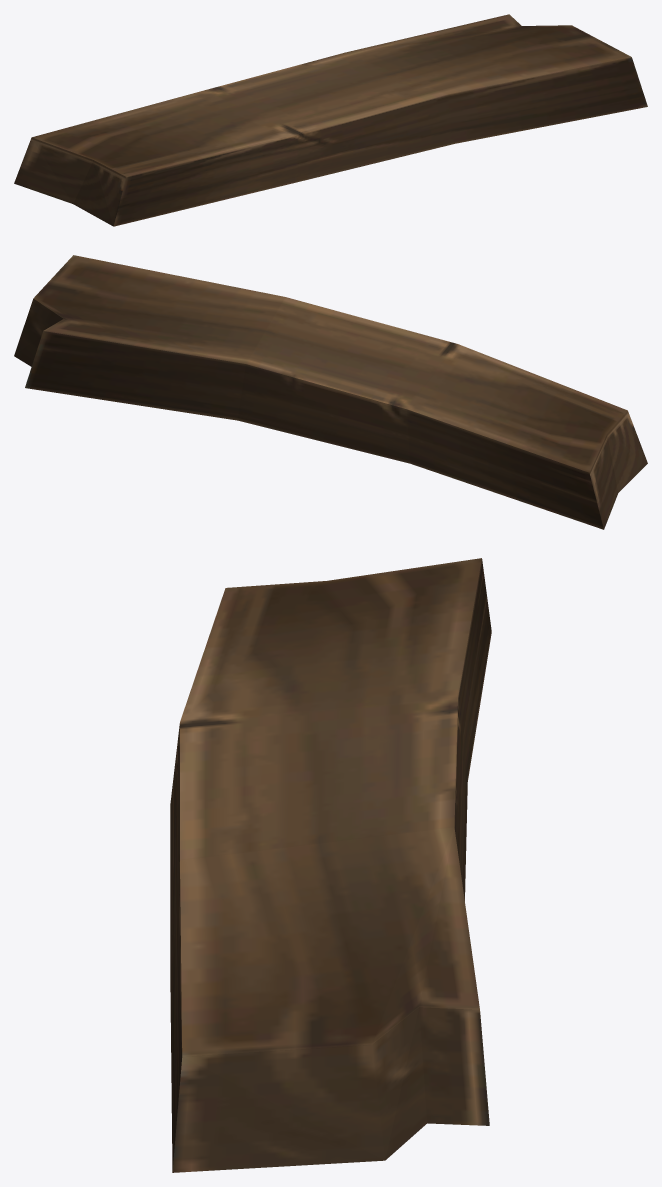
File: bandit_groundboard_05.fbx
3 renders of one model, top to bottom at view 1: azimuth 30°, elevation 25°; view 2: azimuth 150°, elevation 25°; view 3: azimuth 270°, elevation 25°, orthographic. The views are drawn at different scales.
Visible parts, largest first — view 1: obj0.539; view 2: obj0.539; view 3: obj0.539.
Boxes of the visible parts, x1=… form: obj0.539: x1=14, y1=14, x2=647, y2=226; obj0.539: x1=14, y1=255, x2=647, y2=529; obj0.539: x1=170, y1=558, x2=491, y2=1172.
Bounding box in the file's own units: 1.88 × 0.1924 × 0.4721.
